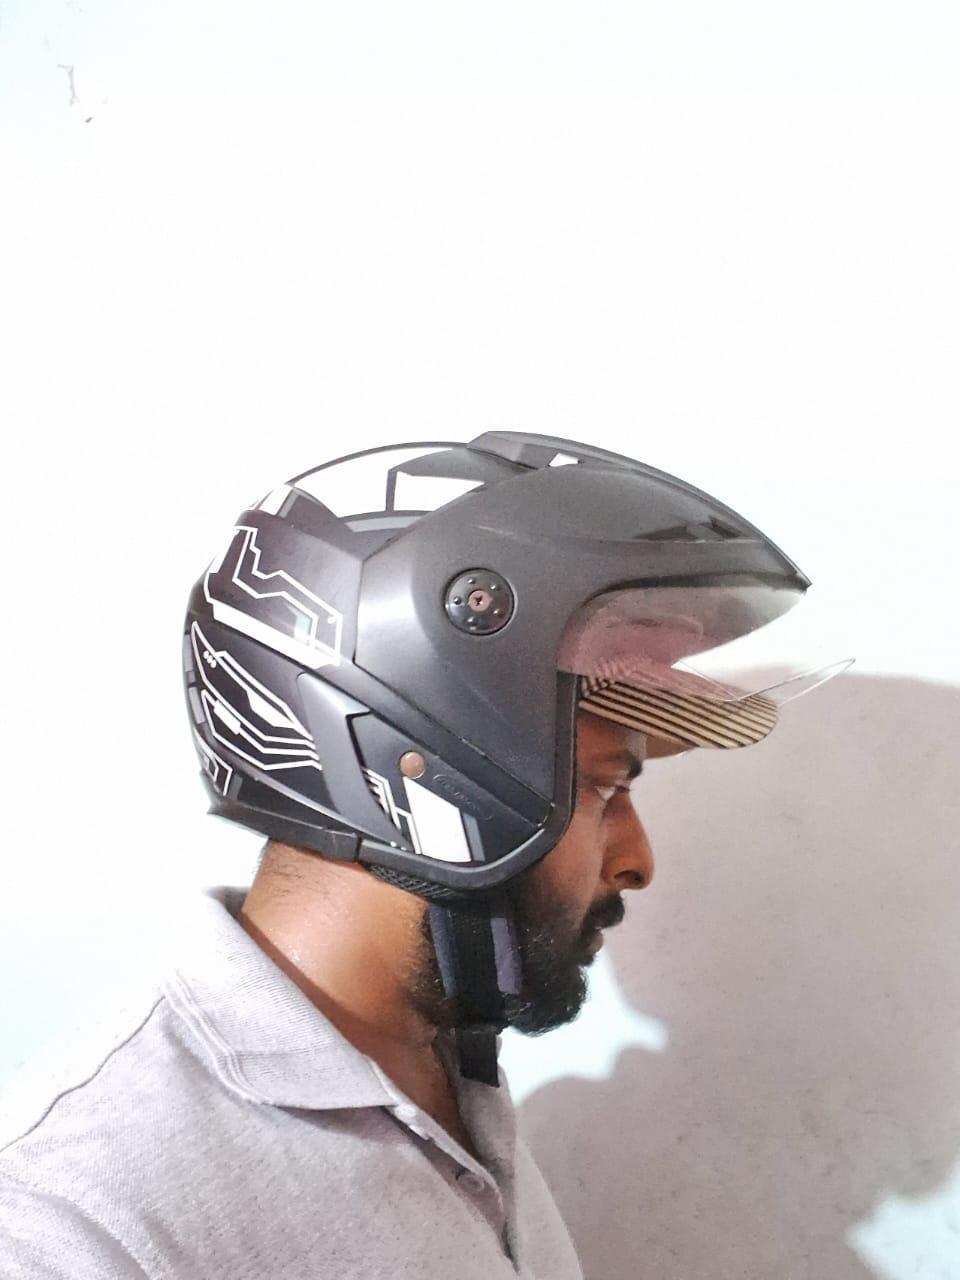helmet: (176, 426, 857, 907)
